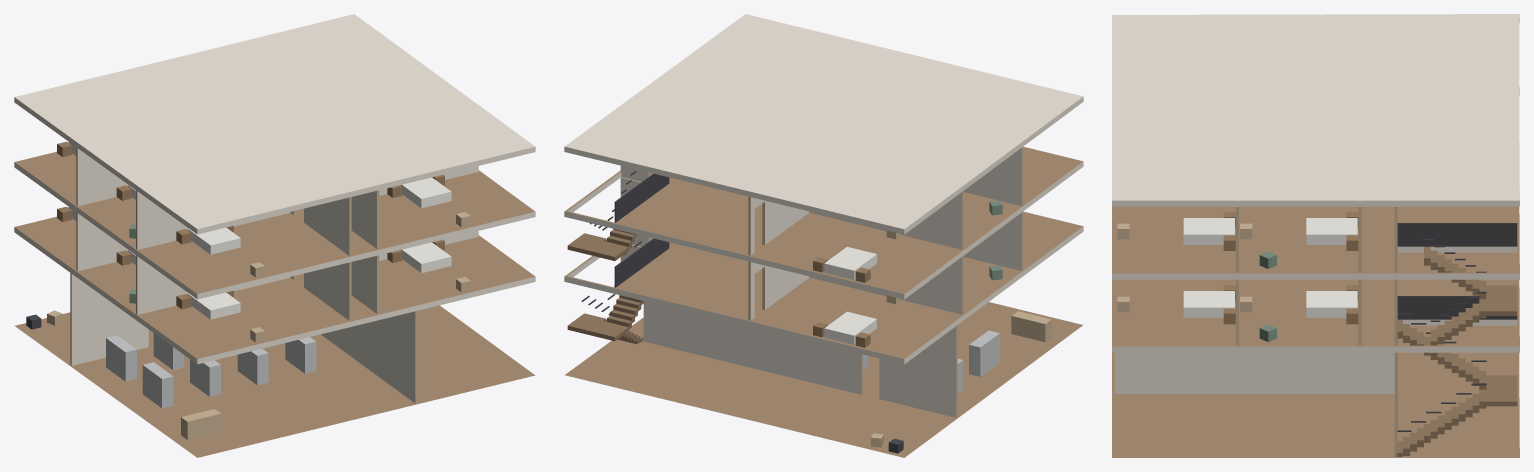
File: interior.glb
The picture shows the model from 3 angles, left to right: view 1: azimuth 30°, elevation 25°; view 2: azimuth 150°, elevation 25°; view 3: azimuth 270°, elevation 25°; orthographic projection. The views are drawn at different scales.
Parts seen in each view (by area): view 1: slabs, partitions, coarse-s0, coarse-s1, coarse-s2; view 2: slabs, partitions, stair, coarse-s0, coarse-s2, coarse-s1; view 3: slabs, partitions, stair, coarse-s1, coarse-s2.
Part boxes in pixels (x1,y1,x2,y2): slabs: [14, 14, 535, 457]; partitions: [70, 147, 478, 403]; coarse-s0: [26, 310, 316, 439]; coarse-s1: [57, 206, 470, 342]; coarse-s2: [57, 141, 470, 277]; slabs: [564, 14, 1083, 457]; partitions: [620, 147, 1023, 417]; stair: [567, 171, 669, 344]; coarse-s0: [863, 311, 1051, 453]; coarse-s2: [813, 200, 1002, 282]; coarse-s1: [813, 265, 1002, 347]; slabs: [1112, 14, 1519, 457]; partitions: [1114, 206, 1397, 456]; stair: [1396, 223, 1517, 456]; coarse-s1: [1117, 285, 1358, 341]; coarse-s2: [1117, 212, 1358, 268].
Bounding box in the file's own units: 17.16 × 11.05 × 15.84.
